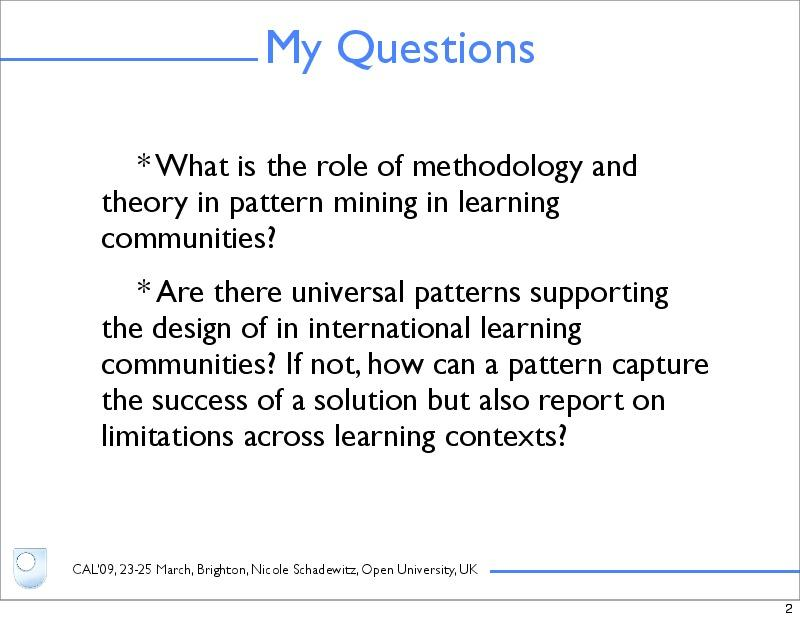paragraph: (90, 117, 739, 497)
title: (261, 22, 542, 85)
